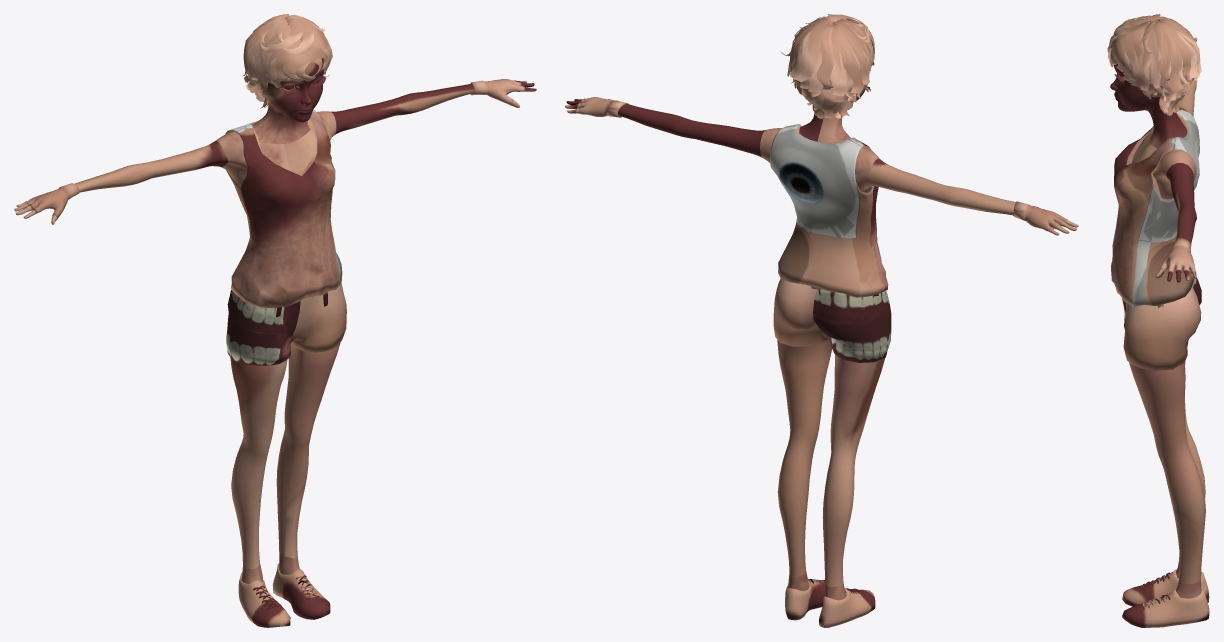
File: ToonFemale1.obj
The picture shows the model from 3 angles, left to right: view 1: azimuth 30°, elevation 25°; view 2: azimuth 150°, elevation 25°; view 3: azimuth 270°, elevation 25°; orthographic projection.
Parts seen in each view (by area): view 1: Body, Tops, Bottoms, Hair, Shoes, Gloves; view 2: Body, Tops, Bottoms, Hair, Shoes, Gloves; view 3: Body, Tops, Hair, Bottoms, Shoes, Gloves.
Part boxes in pixels (<box>): Body: <box>14,58,536,583</box>; Tops: <box>225,110,342,307</box>; Bottoms: <box>226,284,346,365</box>; Hair: <box>242,14,332,108</box>; Shoes: <box>238,563,330,627</box>; Gloves: <box>25,79,525,219</box>; Body: <box>565,84,1078,600</box>; Tops: <box>770,124,888,297</box>; Bottoms: <box>773,278,891,362</box>; Hair: <box>780,14,874,118</box>; Shoes: <box>785,579,875,627</box>; Gloves: <box>575,97,1067,232</box>; Body: <box>1110,37,1205,598</box>; Tops: <box>1111,110,1199,306</box>; Hair: <box>1107,14,1201,115</box>; Bottoms: <box>1121,278,1201,370</box>; Shoes: <box>1122,569,1209,627</box>; Gloves: <box>1159,39,1196,273</box>.
Size of the model in its own units: 153 by 168 by 26.15.
